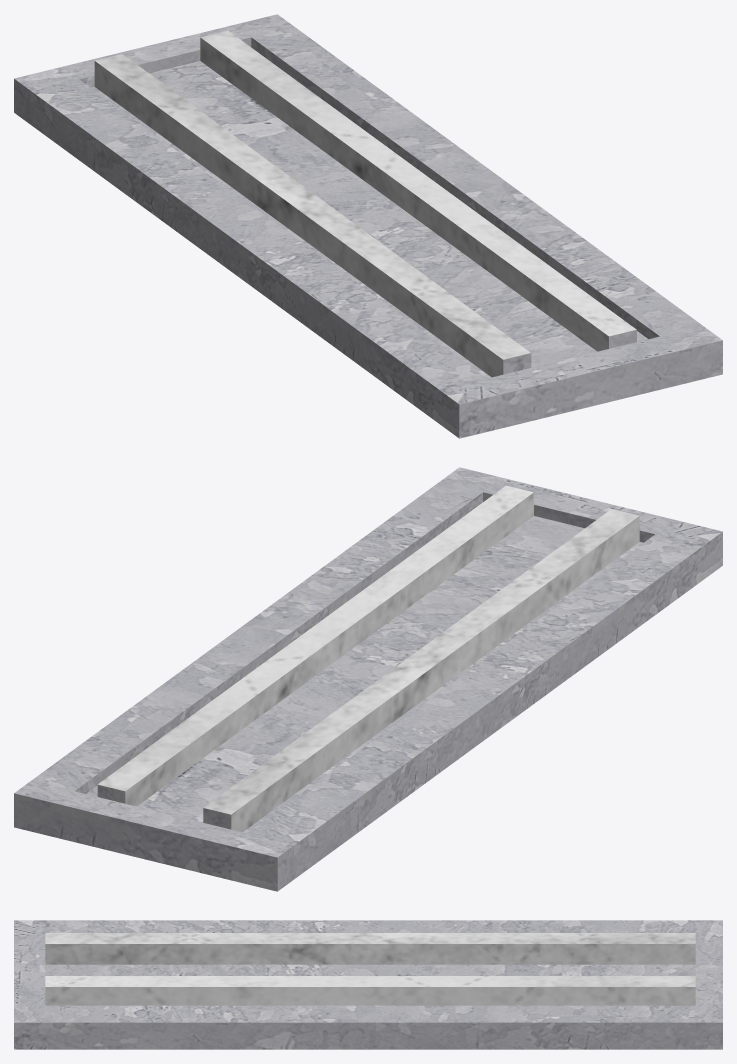
The model's file is Lightf.fbx.
The picture shows the model from 3 angles, top to bottom: view 1: azimuth 30°, elevation 25°; view 2: azimuth 150°, elevation 25°; view 3: azimuth 270°, elevation 25°; orthographic projection. The views are drawn at different scales.
Parts seen in each view (by area): view 1: Component_2_1; view 2: Component_2_1; view 3: Component_2_1.
Part boxes in pixels (<box>): Component_2_1: <box>14,14,722,438</box>; Component_2_1: <box>14,467,722,891</box>; Component_2_1: <box>14,920,722,1049</box>.
Size of the model in its own units: 27.81 by 4.94 by 81.44.
